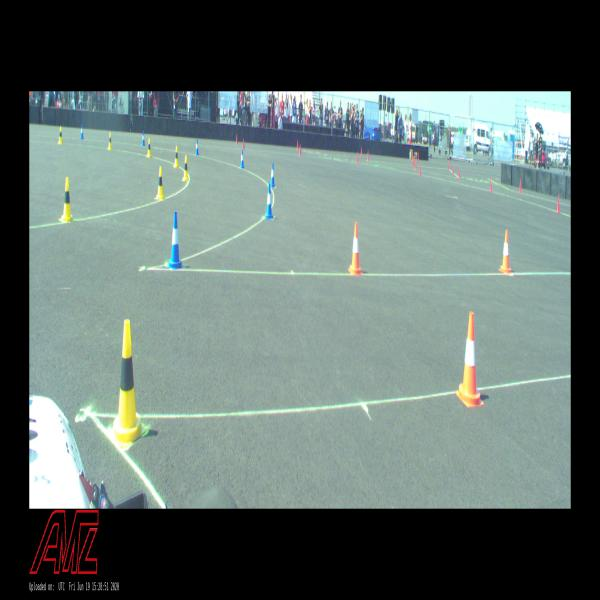blue_cone: (168, 212, 184, 270), (265, 184, 274, 219), (270, 163, 276, 188), (240, 150, 245, 168), (195, 138, 199, 155), (80, 124, 84, 139), (142, 131, 145, 146)
orange_cone: (455, 312, 484, 407), (348, 223, 362, 275), (498, 230, 512, 274)
unknown_cone: (556, 195, 560, 213), (518, 180, 522, 193), (489, 177, 492, 192), (242, 138, 245, 150), (356, 152, 359, 163), (360, 146, 363, 157), (299, 143, 301, 156), (367, 150, 369, 162), (458, 166, 460, 178), (236, 134, 238, 145), (414, 159, 416, 170), (419, 166, 421, 176), (296, 140, 298, 150), (453, 163, 454, 174), (448, 160, 449, 170), (413, 156, 414, 166)
yellow_cone: (112, 320, 146, 446), (60, 177, 72, 222), (156, 167, 164, 200), (182, 155, 189, 181), (146, 138, 152, 157), (174, 146, 179, 167), (107, 132, 112, 150), (58, 127, 63, 144)
